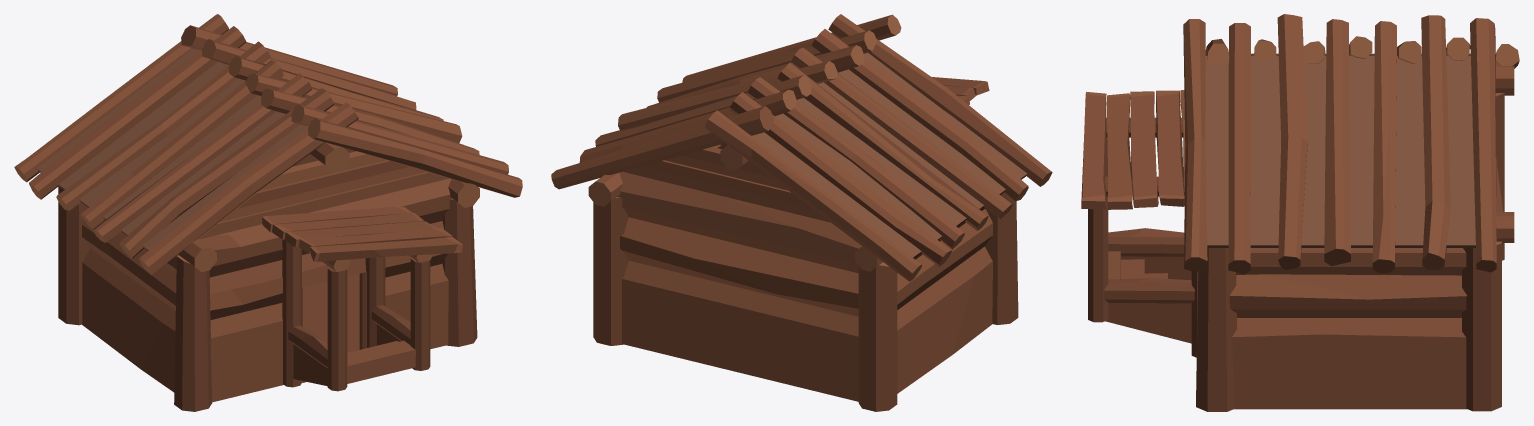
The model's file is log_dugout.fbx.
3 views of the same model, side by side, from view 1: azimuth 30°, elevation 25°; view 2: azimuth 150°, elevation 25°; view 3: azimuth 270°, elevation 25° (orthographic). The views are drawn at different scales.
Visible parts, largest first — view 1: log_dugout; view 2: log_dugout; view 3: log_dugout.
Boxes of the visible parts, left/top/right/bottom form: log_dugout: left=14, top=14, right=522, bottom=411; log_dugout: left=551, top=14, right=1052, bottom=411; log_dugout: left=1081, top=14, right=1519, bottom=411.
Bounding box in the file's own units: 290 × 194 × 253.
